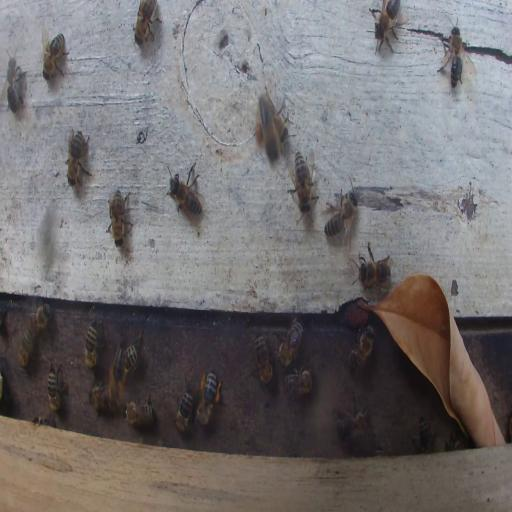bee: (436, 17, 472, 88), (254, 92, 290, 163), (367, 0, 408, 55), (324, 185, 361, 244), (166, 165, 203, 223), (334, 393, 370, 444), (352, 244, 393, 288), (66, 128, 93, 191), (288, 151, 315, 213), (107, 188, 133, 248), (41, 31, 69, 82), (196, 370, 221, 426), (4, 50, 26, 111), (346, 325, 374, 372), (276, 319, 303, 367), (108, 340, 126, 412), (133, 0, 160, 46), (282, 365, 314, 399), (253, 332, 273, 386), (409, 415, 436, 453), (174, 383, 194, 433), (123, 398, 155, 428), (47, 362, 64, 414), (26, 303, 51, 336), (124, 332, 141, 375), (84, 320, 98, 370), (18, 324, 33, 368), (90, 382, 108, 415)
